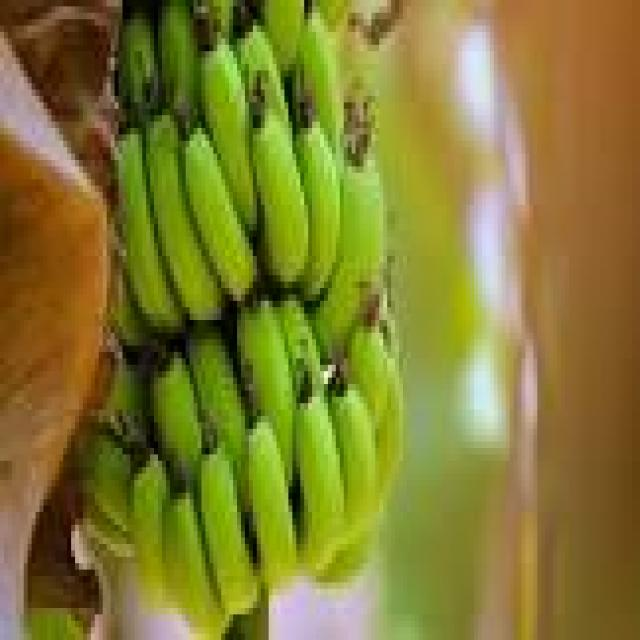banana: (313, 141, 387, 358), (147, 116, 225, 319), (182, 128, 256, 300), (119, 128, 181, 332), (238, 301, 296, 479), (202, 39, 256, 230), (198, 448, 260, 614), (186, 327, 248, 492), (253, 103, 308, 287), (162, 493, 229, 639), (297, 96, 339, 300), (297, 391, 343, 575), (328, 378, 379, 537), (249, 416, 296, 588), (297, 7, 343, 153), (151, 352, 201, 486), (238, 20, 292, 134), (131, 455, 169, 607), (80, 429, 134, 531), (99, 352, 150, 447), (159, 0, 197, 127), (277, 295, 323, 396), (348, 320, 391, 428), (119, 13, 158, 121), (376, 359, 402, 499), (261, 0, 304, 76), (111, 276, 154, 351), (320, 532, 375, 588), (83, 506, 134, 563), (194, 0, 233, 38), (317, 0, 351, 25)
